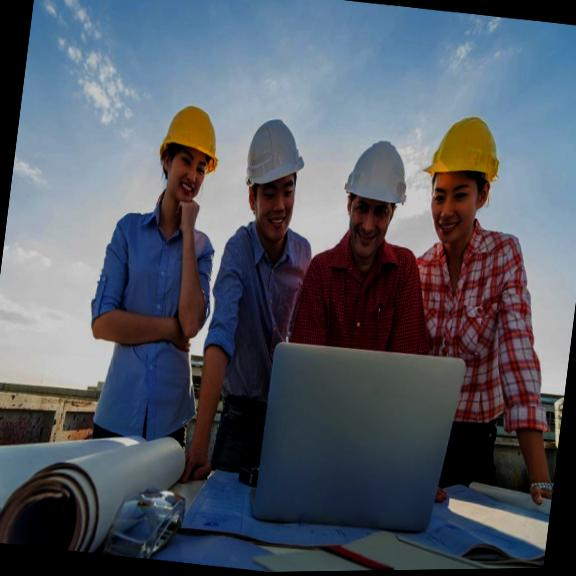no_safety_vest: (404, 226, 537, 473), (90, 210, 213, 420), (207, 223, 307, 412), (304, 241, 422, 362)
